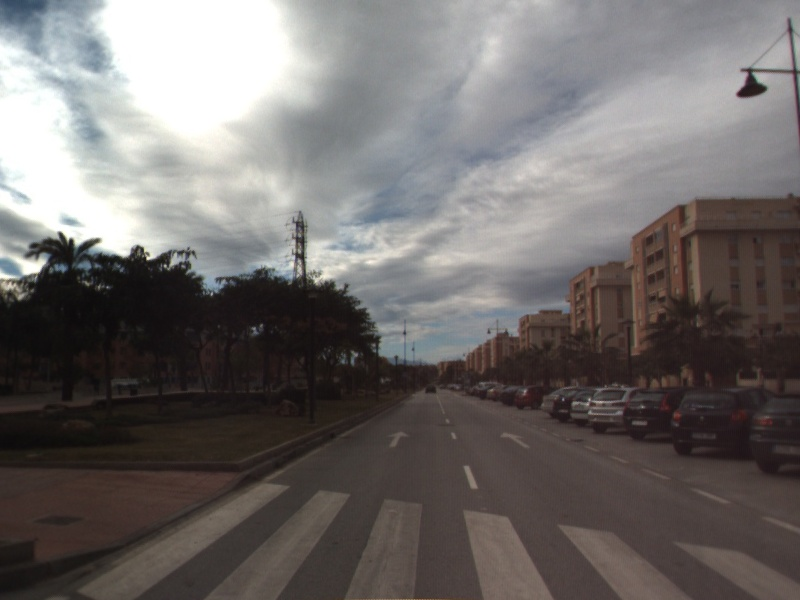STRAIGHT: (498, 430, 532, 450), (386, 429, 411, 449)
